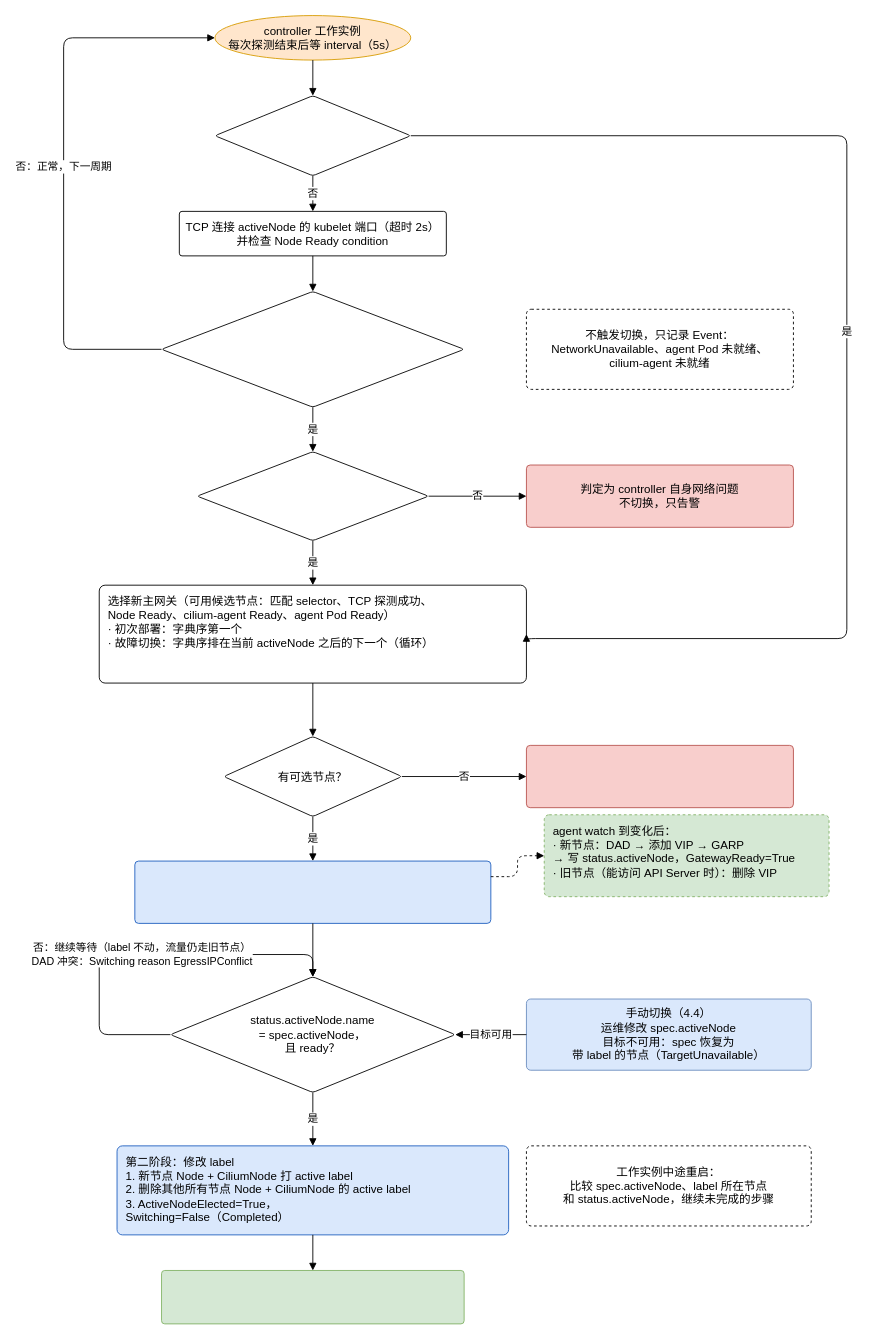
This 870x1339 diagram has some shape labels left out. The centre of each missing label's shape, as x and y in pixels:
spec.activeNode 为空？ （初次部署）: the point at 312,135
Switching=True （NoAvailableCandidate），保持现状: the point at 659,776
所有 cilium-agent 把网关切到新节点 新建连接恢复: the point at 312,1297
第一阶段：写入 spec.activeNode = 新节点: the point at 312,891
至少一个备选节点 TCP 探测成功？ （只用于 TCP 触发）: the point at 312,496
连续 failureThreshold 次连接超时？ （成功或被拒绝都算存活） 或 Node Ready 为 False / Unknown？: the point at 312,349
